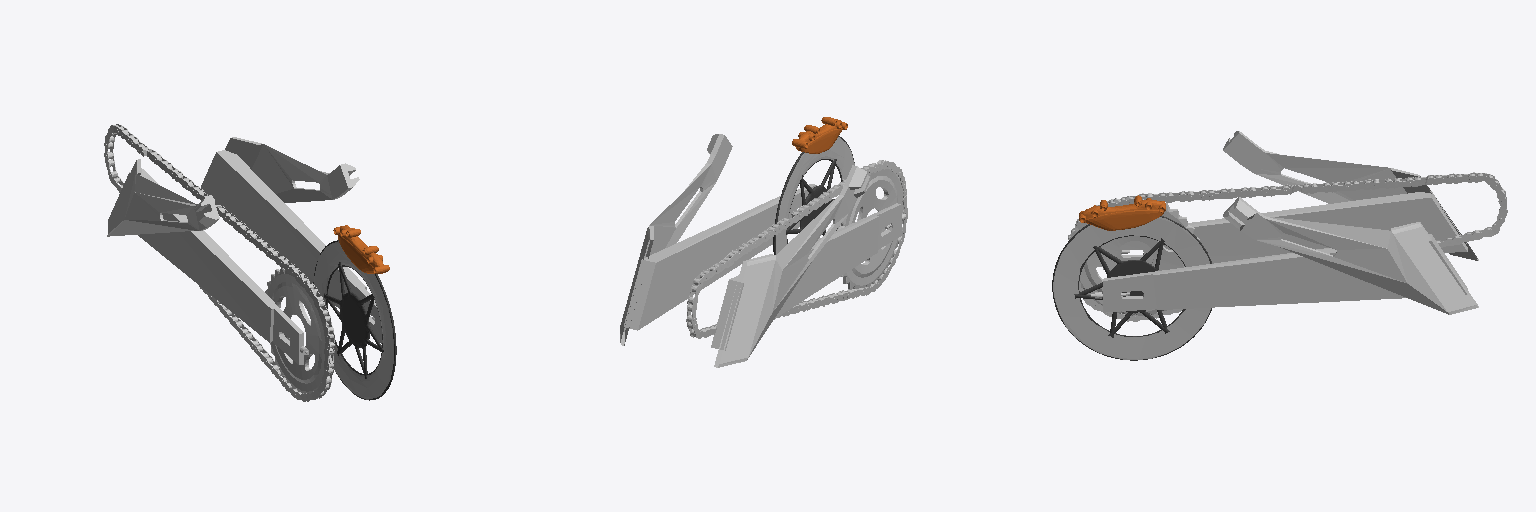
Rendered from CB400SF_RearAxle.obj.
3 views of the same model, side by side, from view 1: azimuth 30°, elevation 25°; view 2: azimuth 150°, elevation 25°; view 3: azimuth 270°, elevation 25° (orthographic).
Visible parts, largest first — view 1: SupportZad_1; view 2: SupportZad_1; view 3: SupportZad_1.
Part boxes in pixels (left/top/right/bottom): SupportZad_1: left=104, top=124, right=396, bottom=401; SupportZad_1: left=620, top=117, right=907, bottom=367; SupportZad_1: left=1052, top=131, right=1507, bottom=360.
Size of the model in its own units: 34.39 by 38.99 by 87.83.